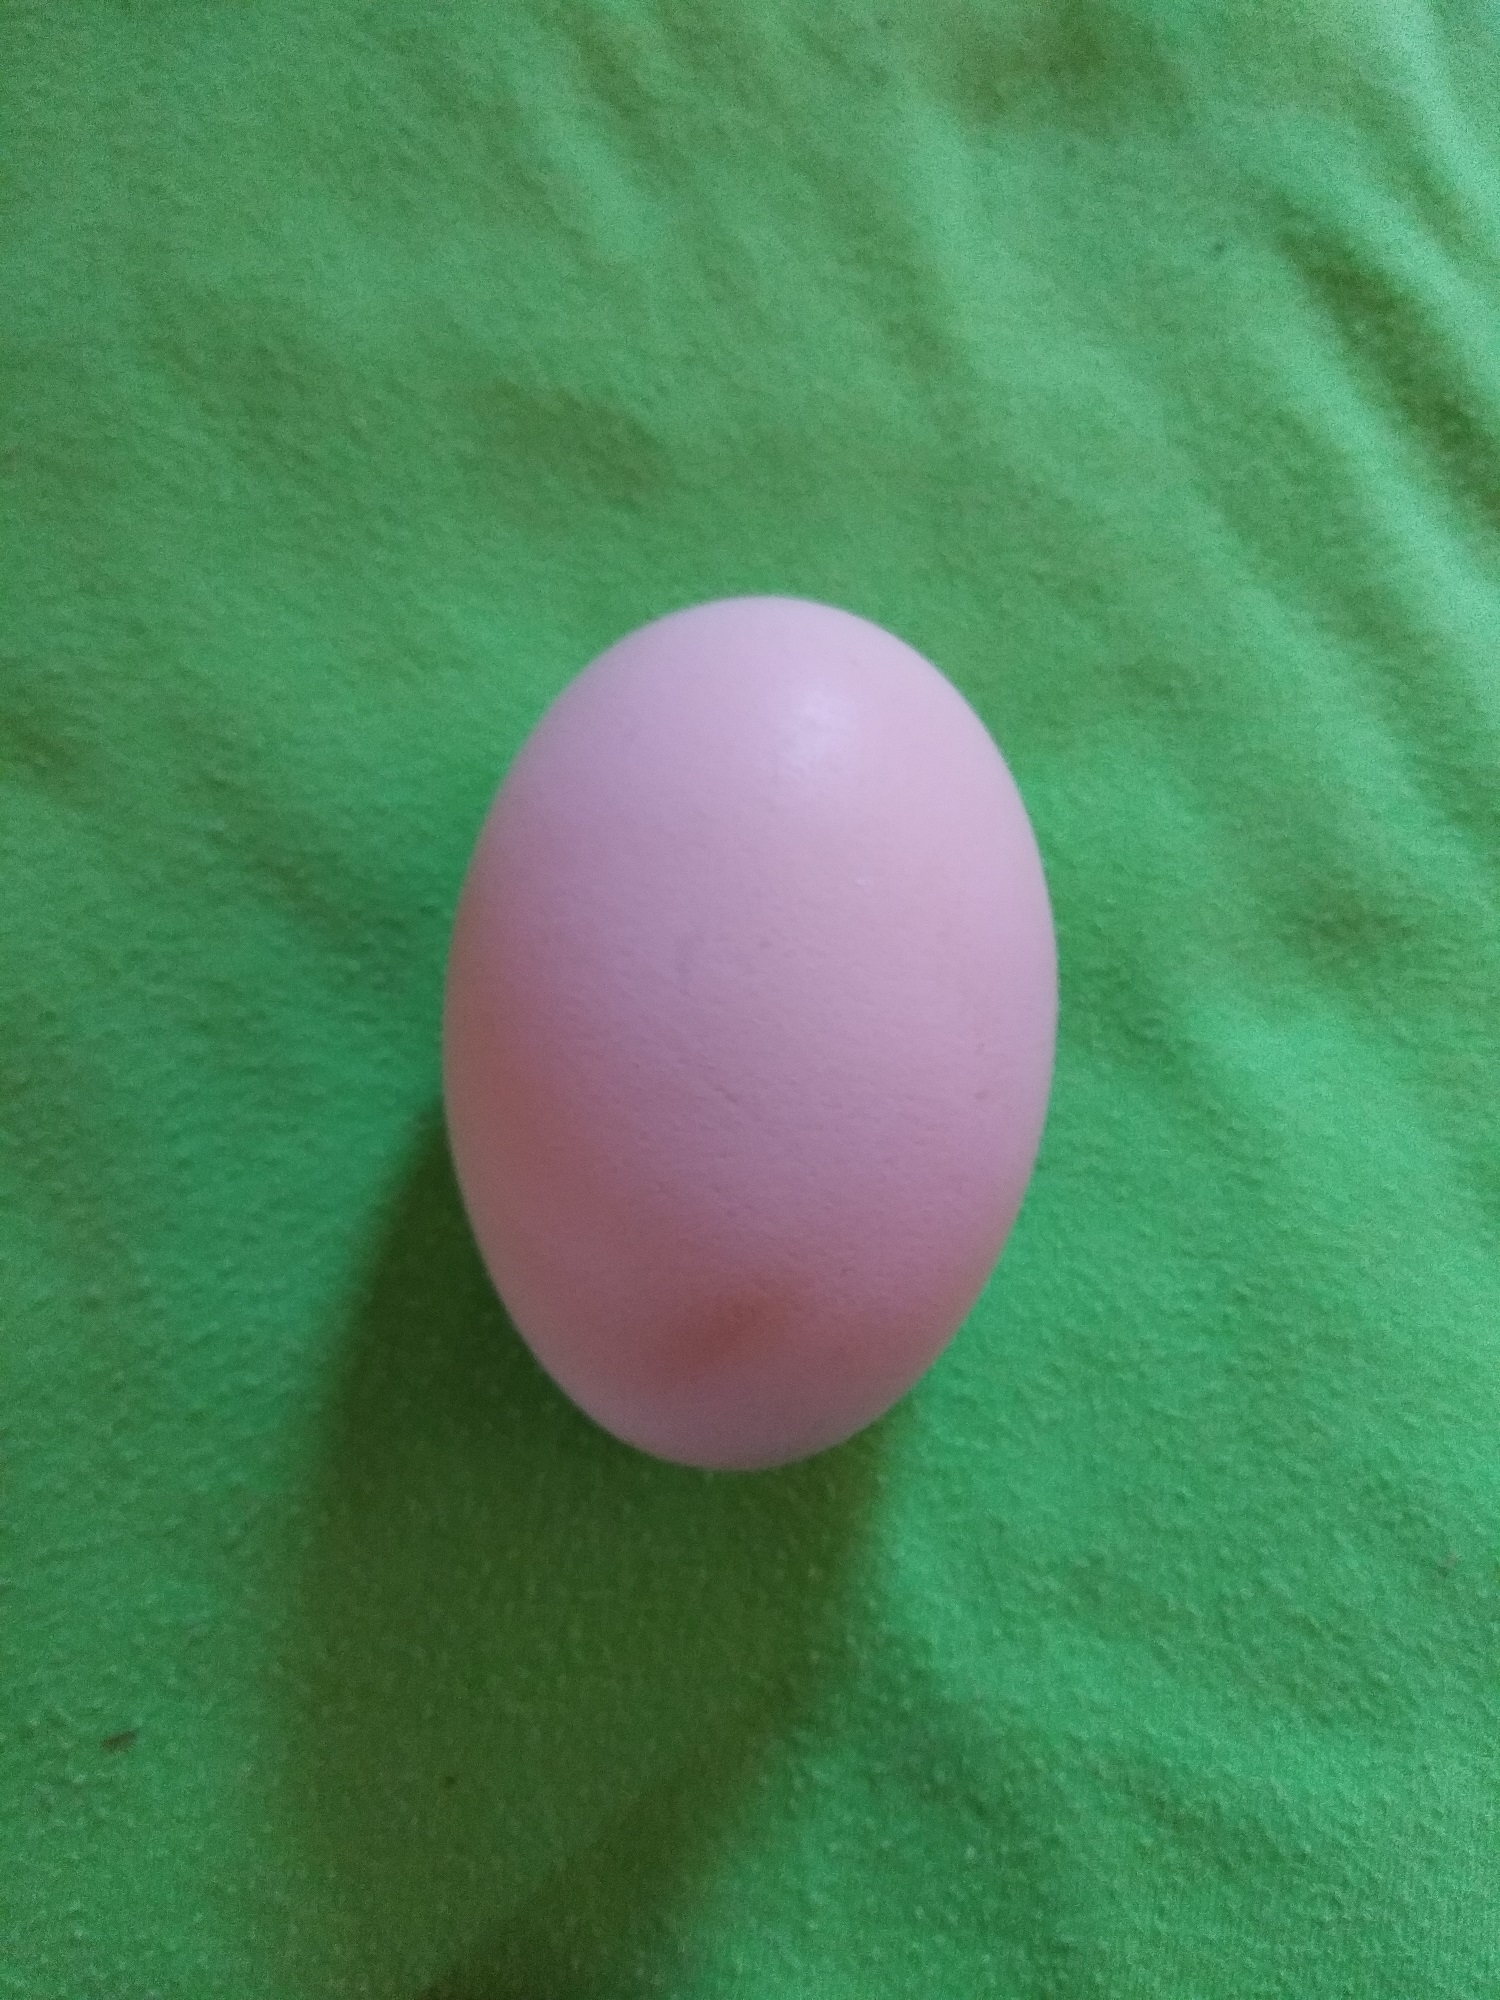Male: (440, 594, 1057, 1476)
